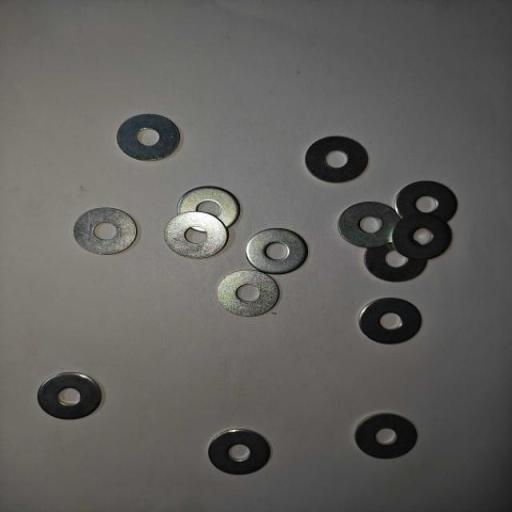washer: (163, 210, 230, 259), (304, 134, 369, 184), (72, 207, 138, 256), (358, 296, 422, 346), (337, 200, 401, 250), (37, 371, 102, 420), (354, 412, 420, 460), (390, 212, 453, 262), (116, 113, 181, 161), (207, 428, 271, 476), (216, 269, 280, 317), (244, 227, 308, 275), (176, 186, 241, 232), (394, 179, 458, 224), (362, 240, 428, 283)
